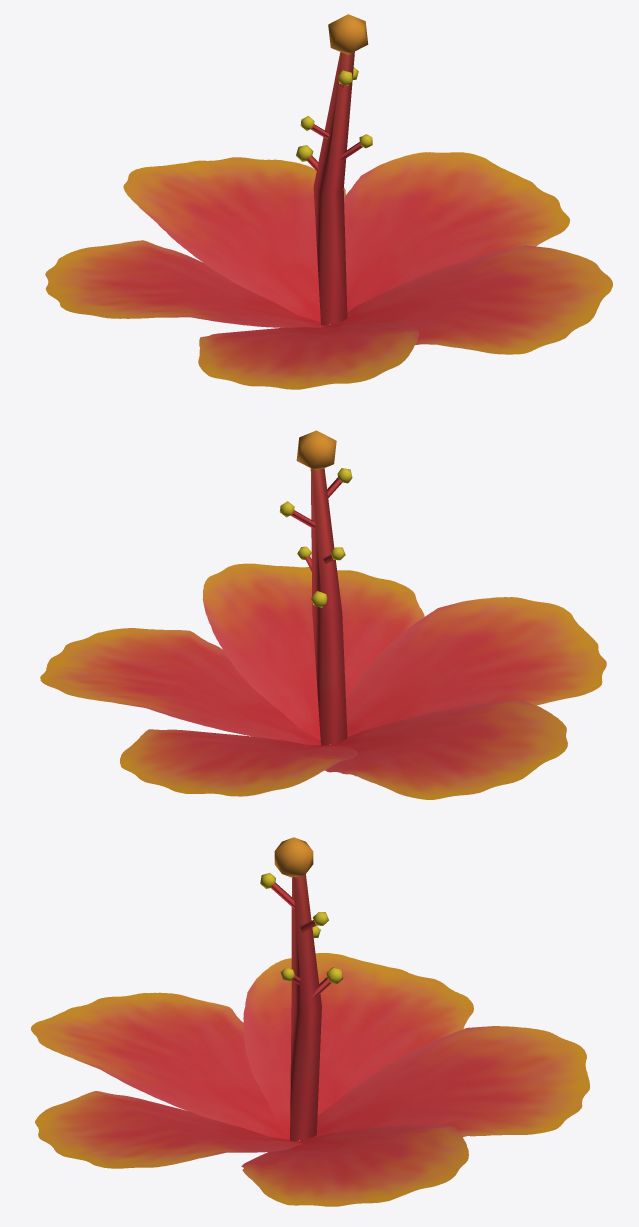
The model's file is Hibiscus_Red2.fbx.
The picture shows the model from 3 angles, top to bottom: view 1: azimuth 30°, elevation 25°; view 2: azimuth 150°, elevation 25°; view 3: azimuth 270°, elevation 25°; orthographic projection.
Visible parts, largest first — view 1: Hibiscus_Red2; view 2: Hibiscus_Red2; view 3: Hibiscus_Red2.
Boxes of the visible parts, x1,y1,x2,y2 form: Hibiscus_Red2: (45, 14, 612, 389); Hibiscus_Red2: (40, 430, 606, 799); Hibiscus_Red2: (31, 837, 589, 1206).
Size of the model in its own units: 43.45 by 24.37 by 42.81.
